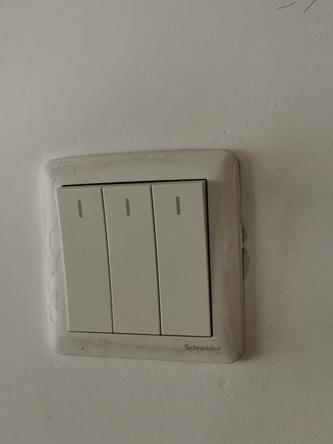switch: (149, 177, 219, 341), (51, 179, 121, 340), (101, 178, 168, 339)
